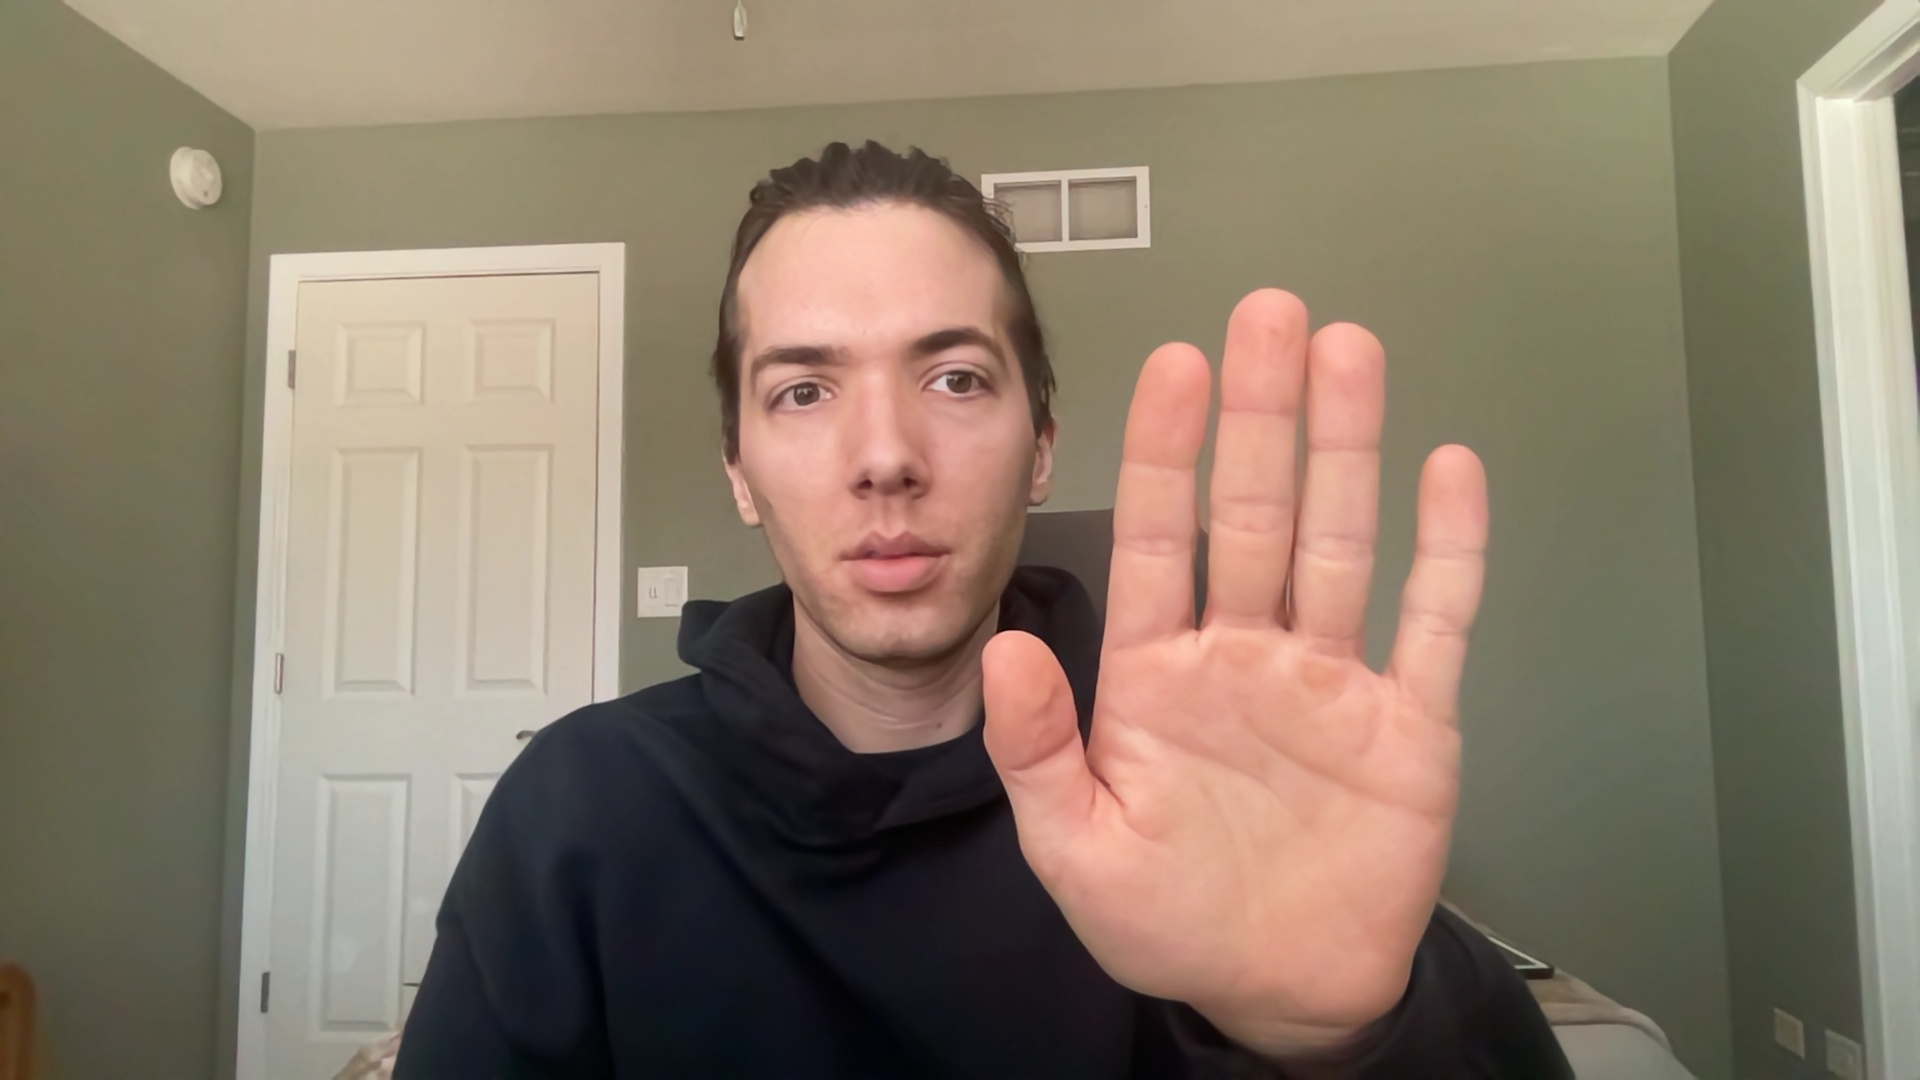Hello: (952, 276, 1509, 1048)
